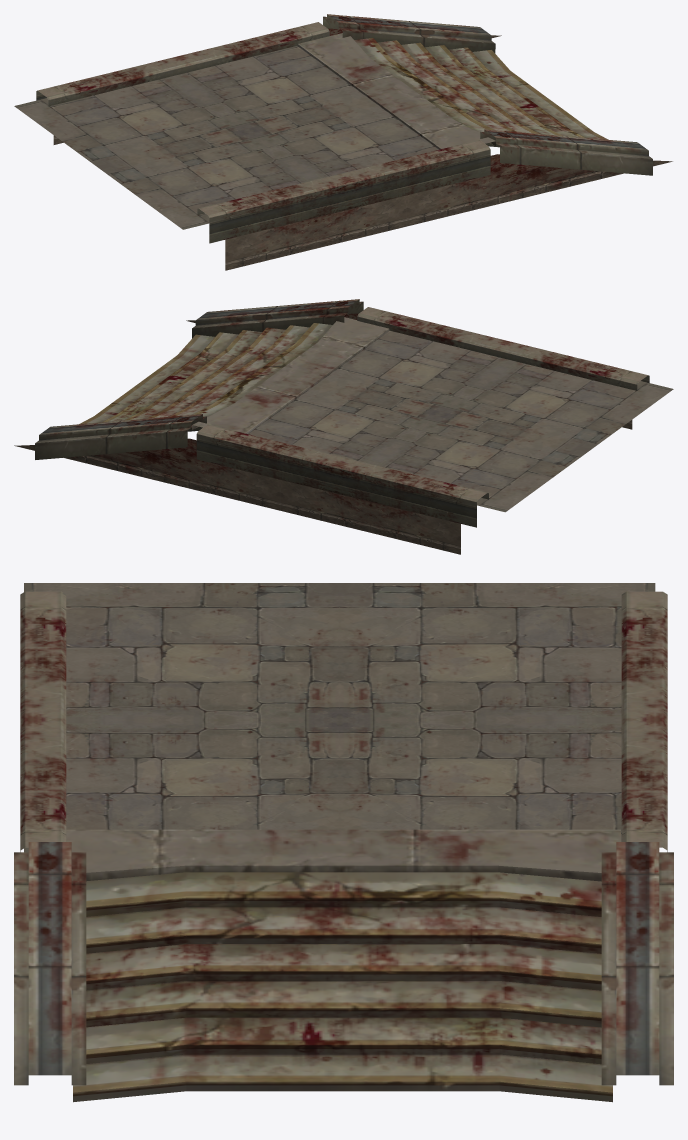
The model's file is blsd_louti_02.FBX.
The picture shows the model from 3 angles, top to bottom: view 1: azimuth 30°, elevation 25°; view 2: azimuth 150°, elevation 25°; view 3: azimuth 270°, elevation 25°; orthographic projection. The views are drawn at different scales.
Parts seen in each view (by area): view 1: blsd_louti_02; view 2: blsd_louti_02; view 3: blsd_louti_02.
Boxes of the visible parts, <box> form: blsd_louti_02: <box>14,14,672,270</box>; blsd_louti_02: <box>14,299,673,554</box>; blsd_louti_02: <box>14,583,673,1102</box>.
Bounding box in the file's own units: 1173 × 732 × 166.
